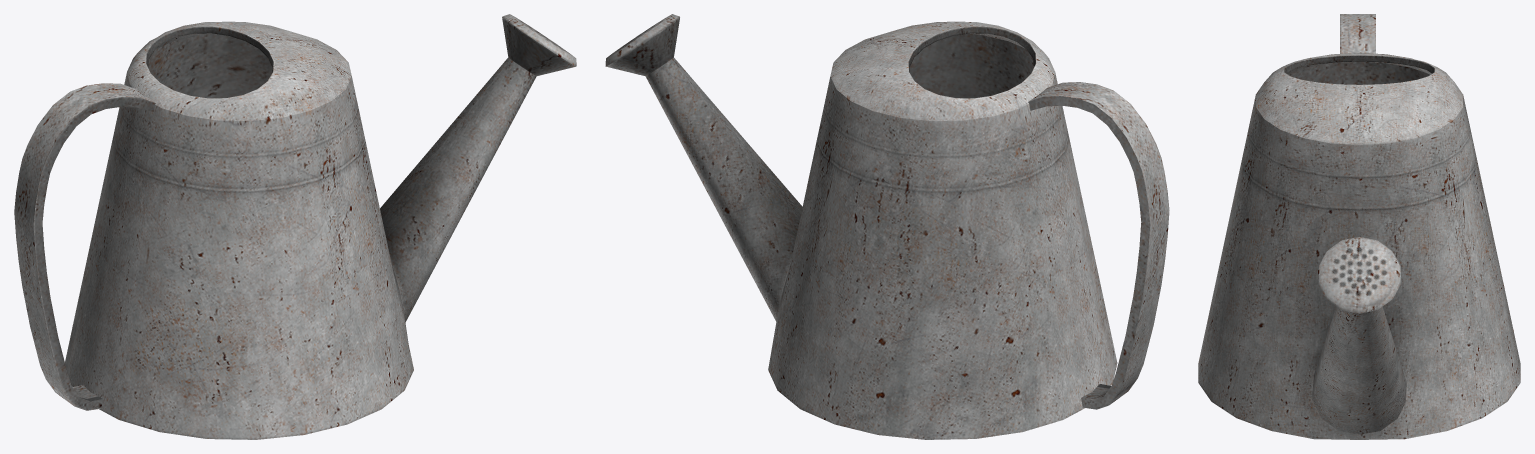
The model's file is gardening_watercan_01.fbx.
The picture shows the model from 3 angles, left to right: view 1: azimuth 30°, elevation 25°; view 2: azimuth 150°, elevation 25°; view 3: azimuth 270°, elevation 25°; orthographic projection. The views are drawn at different scales.
Visible parts, largest first — view 1: gardening watercan 01; view 2: gardening watercan 01; view 3: gardening watercan 01.
Part boxes in pixels (x1,y1,x2,y2): gardening watercan 01: (14, 14, 576, 439); gardening watercan 01: (605, 14, 1169, 439); gardening watercan 01: (1198, 14, 1520, 439).
Size of the model in its own units: 75.57 by 42.17 by 41.41.
